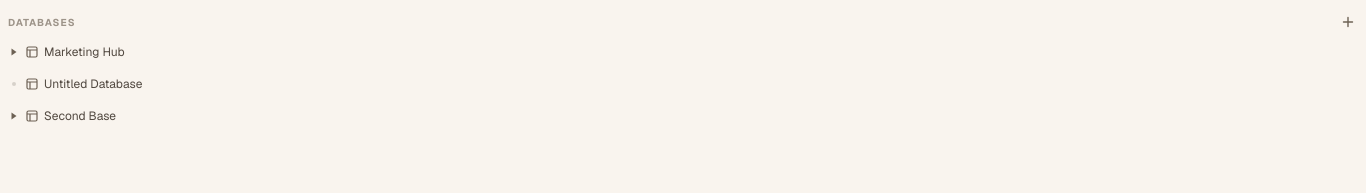
SidebarDatabaseTree › expands to show its linked row pages via database_rows, not parent_id
Click the button named "Expand" next to "Marketing Hub".
click(14, 52)  # box [6,44,22,60]
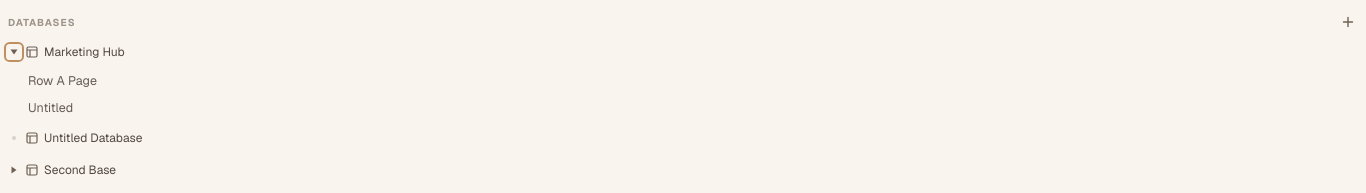
Expected: the link "Row A Page" is shown, [28,72,97,89]
Expected: the link "Untitled" is shown, [28,99,73,116]
